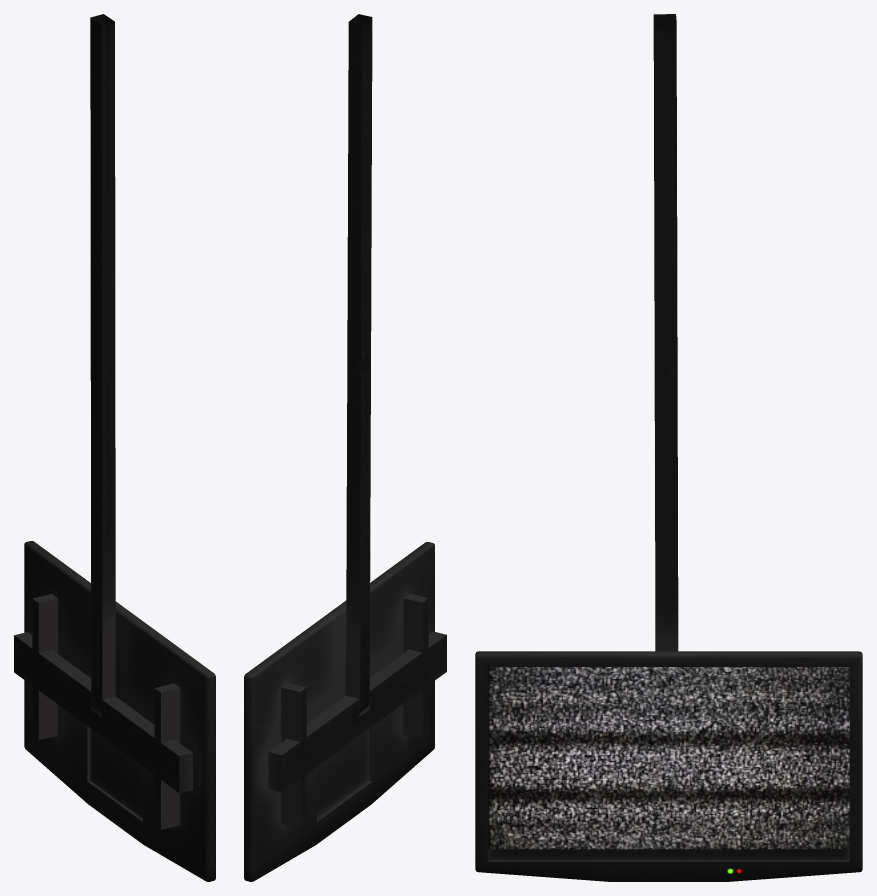
Rendered from SM_Security_TV_static.fbx.
The picture shows the model from 3 angles, left to right: view 1: azimuth 30°, elevation 25°; view 2: azimuth 150°, elevation 25°; view 3: azimuth 270°, elevation 25°; orthographic projection. The views are drawn at different scales.
Parts seen in each view (by area): view 1: SM_TV_base, TV_Pole, SM_TV; view 2: SM_TV_base, TV_Pole, SM_TV; view 3: SM_TV_base, TV_Pole.
Part boxes in pixels (box(x1,y1,x2,y2)): SM_TV_base: box(24, 541, 215, 881); TV_Pole: box(90, 14, 115, 713); SM_TV: box(14, 594, 192, 829); SM_TV_base: box(244, 542, 434, 881); TV_Pole: box(346, 14, 372, 712); SM_TV: box(268, 593, 446, 828); SM_TV_base: box(475, 651, 862, 881); TV_Pole: box(653, 14, 678, 651).
Bounding box in the file's own units: 9.59 × 237 × 97.57.
1 material, 1 textured.
